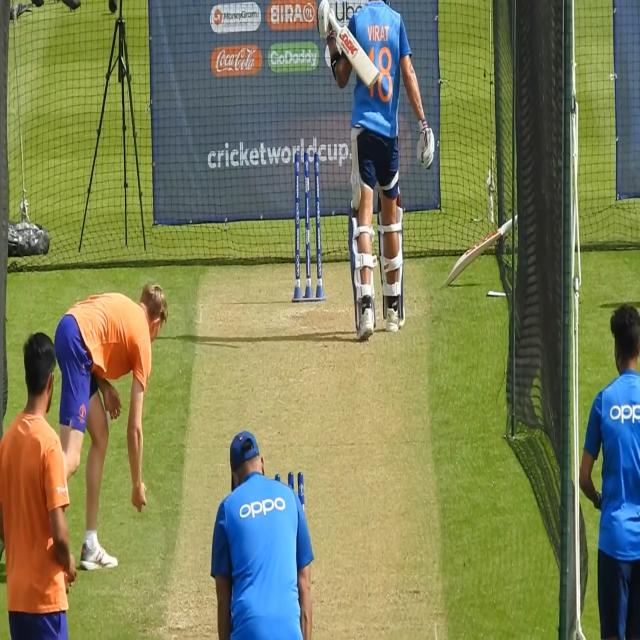stump: (290, 147, 324, 304)
